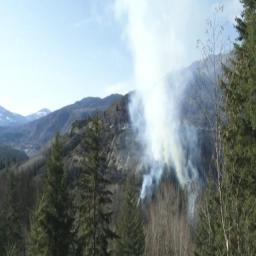Low smoke: (131, 0, 186, 197)
